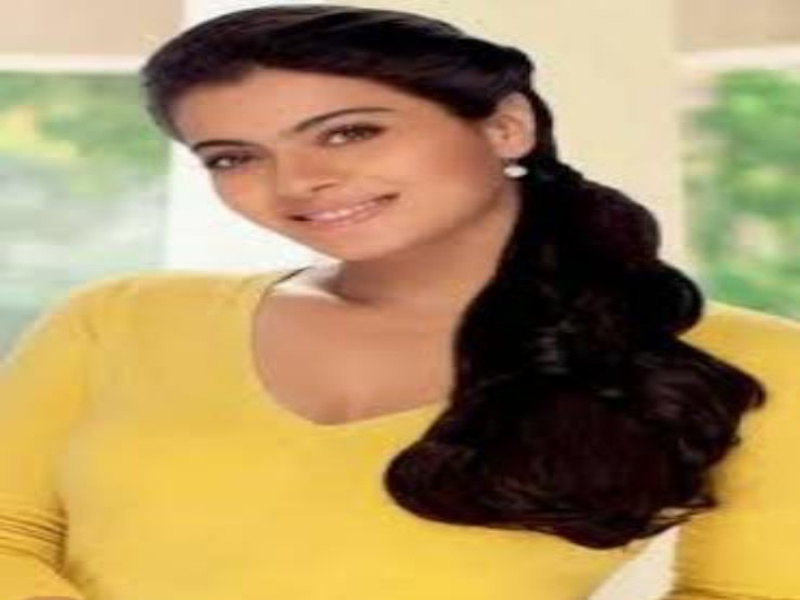TsisyArotava: (153, 41, 478, 278)
